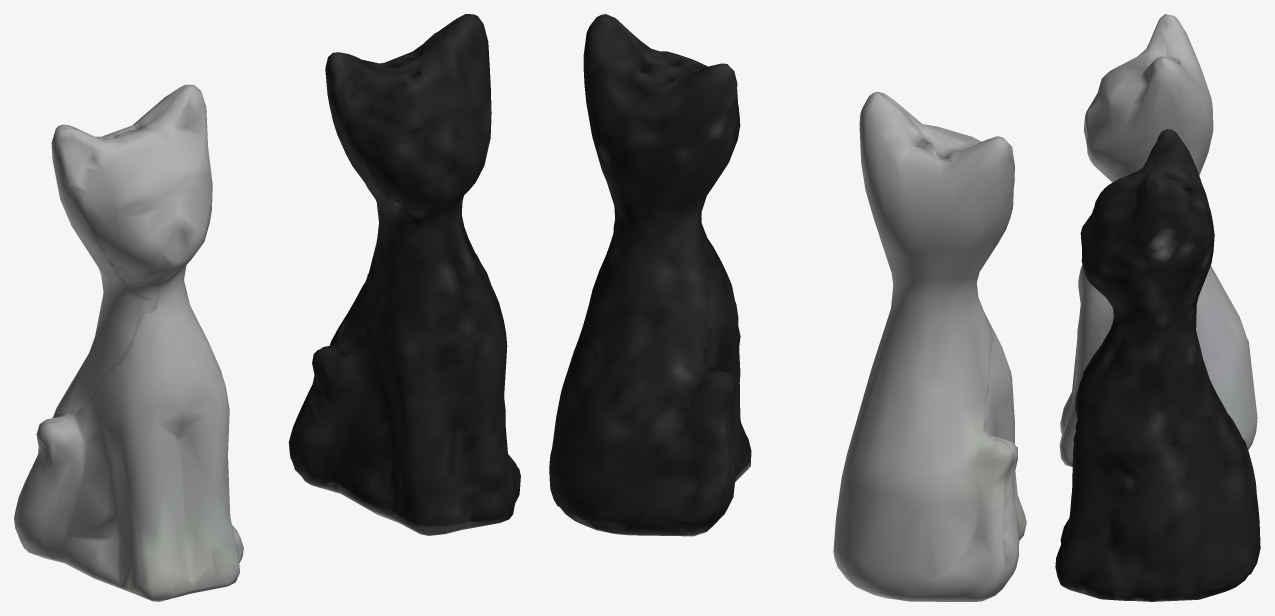
The model's file is Object-medium.glb.
3 views of the same model, side by side, from view 1: azimuth 30°, elevation 25°; view 2: azimuth 150°, elevation 25°; view 3: azimuth 270°, elevation 25° (orthographic). The views are drawn at different scales.
Parts seen in each view (by area): view 1: Object; view 2: Object; view 3: Object.
Boxes of the visible parts, bbox=[...] form: Object: bbox=[14, 14, 520, 601]; Object: bbox=[549, 14, 1026, 601]; Object: bbox=[1055, 14, 1260, 601].
Size of the model in its own units: 0.1178 by 0.1149 by 0.0506.
1 material, 1 textured.
